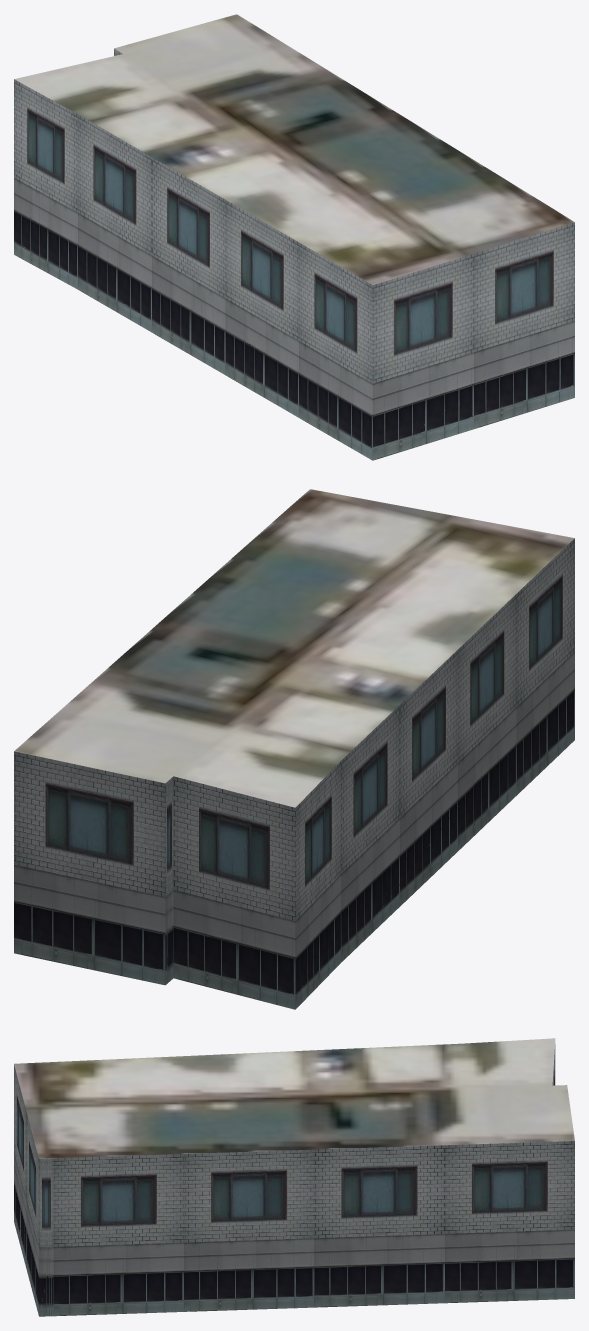
File: T_1SXAR4NV4F.dae
The picture shows the model from 3 angles, top to bottom: view 1: azimuth 30°, elevation 25°; view 2: azimuth 150°, elevation 25°; view 3: azimuth 270°, elevation 25°; orthographic projection. The views are drawn at different scales.
Parts seen in each view (by area): view 1: SketchUp (×7); view 2: SketchUp (×11); view 3: SketchUp (×7).
Part boxes in pixels (x1=…): SketchUp (×7): x1=14, y1=14, x2=574, y2=460; SketchUp (×11): x1=14, y1=489, x2=574, y2=1009; SketchUp (×7): x1=14, y1=1038, x2=574, y2=1316.
Bounding box in the file's own units: 12.27 × 24.17 × 7.51.
3 materials, 3 textured.
